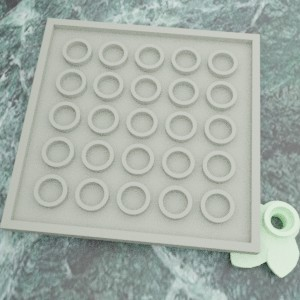lego: (0, 17, 260, 255), (220, 199, 300, 277)
